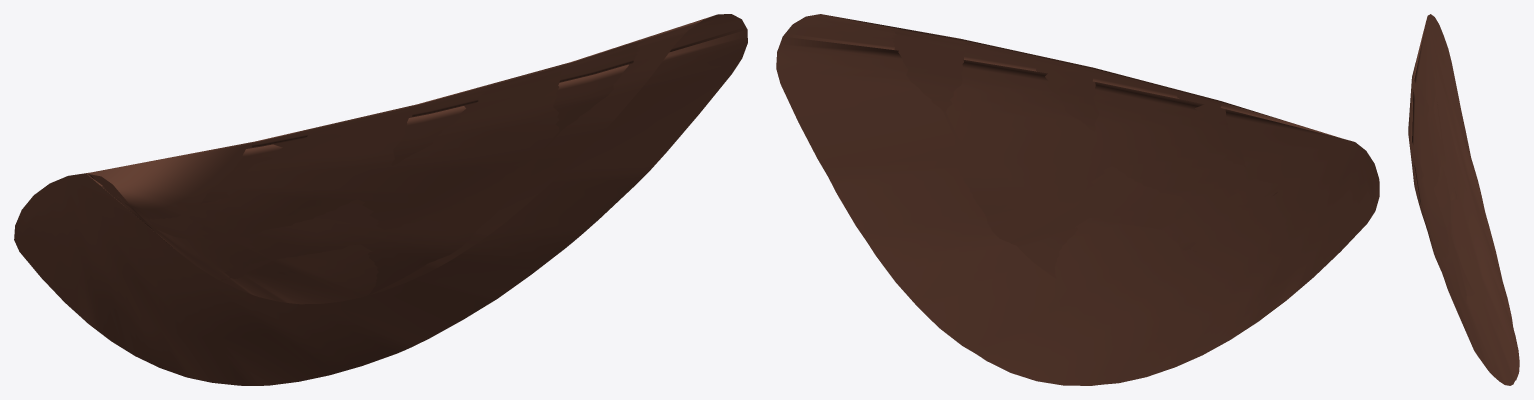
File: mouth_grin.glb
The picture shows the model from 3 angles, left to right: view 1: azimuth 30°, elevation 25°; view 2: azimuth 150°, elevation 25°; view 3: azimuth 270°, elevation 25°; orthographic projection. The views are drawn at different scales.
Parts seen in each view (by area): view 1: Cat_mouth_grin.001; view 2: Cat_mouth_grin.001; view 3: Cat_mouth_grin.001.
Boxes of the visible parts, box(x1,y1,x2,y2) form: Cat_mouth_grin.001: box(14, 14, 747, 385); Cat_mouth_grin.001: box(776, 14, 1379, 385); Cat_mouth_grin.001: box(1408, 14, 1519, 385).
Bounding box in the file's own units: 0.046 × 0.0195 × 0.00845.
